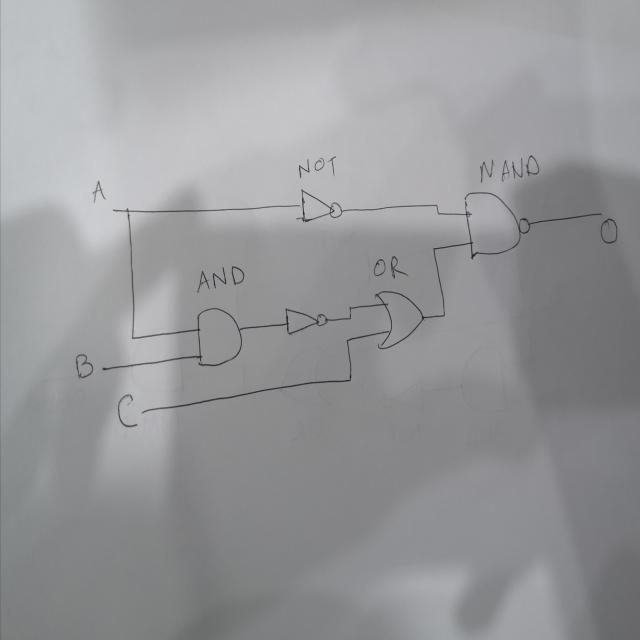junction: (123, 204, 134, 216), (346, 374, 354, 386), (430, 244, 438, 254), (440, 310, 447, 319), (344, 336, 351, 344), (346, 314, 352, 321), (130, 333, 134, 342), (436, 209, 440, 217), (347, 304, 352, 310), (434, 202, 437, 208)
terminal: (140, 406, 148, 418), (100, 363, 108, 374), (597, 208, 604, 218), (110, 205, 116, 215)
text: (478, 154, 542, 188), (196, 265, 246, 291), (299, 154, 339, 182), (115, 391, 140, 431), (371, 256, 406, 280), (598, 216, 620, 248), (74, 351, 96, 381), (90, 178, 106, 204)
